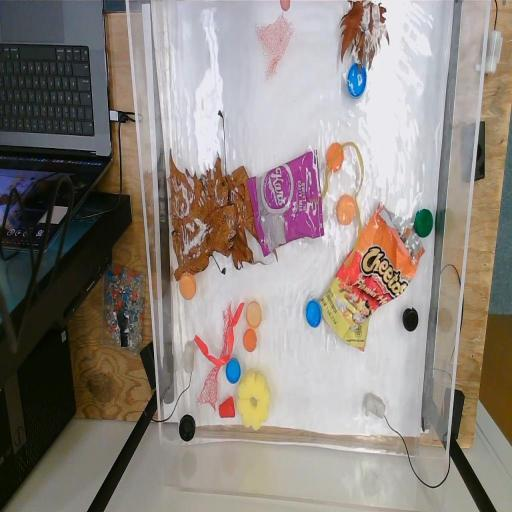Bottle Cap: (336, 192, 356, 228), (348, 62, 366, 100), (178, 272, 198, 303), (326, 140, 344, 174), (414, 208, 434, 236), (304, 299, 322, 329), (178, 412, 196, 442), (246, 300, 264, 328), (225, 356, 241, 384), (402, 306, 418, 332), (242, 328, 258, 354)
Cone Cap: (218, 395, 236, 419)
Leaf: (177, 112, 255, 274), (168, 159, 233, 278), (339, 0, 391, 71)
Netting: (197, 302, 233, 412), (256, 15, 295, 85)
Plastic Bag: (318, 200, 426, 356), (246, 150, 326, 252)
Plastic Strand: (307, 140, 365, 270), (195, 299, 245, 365)
Sponge: (237, 372, 271, 432)
